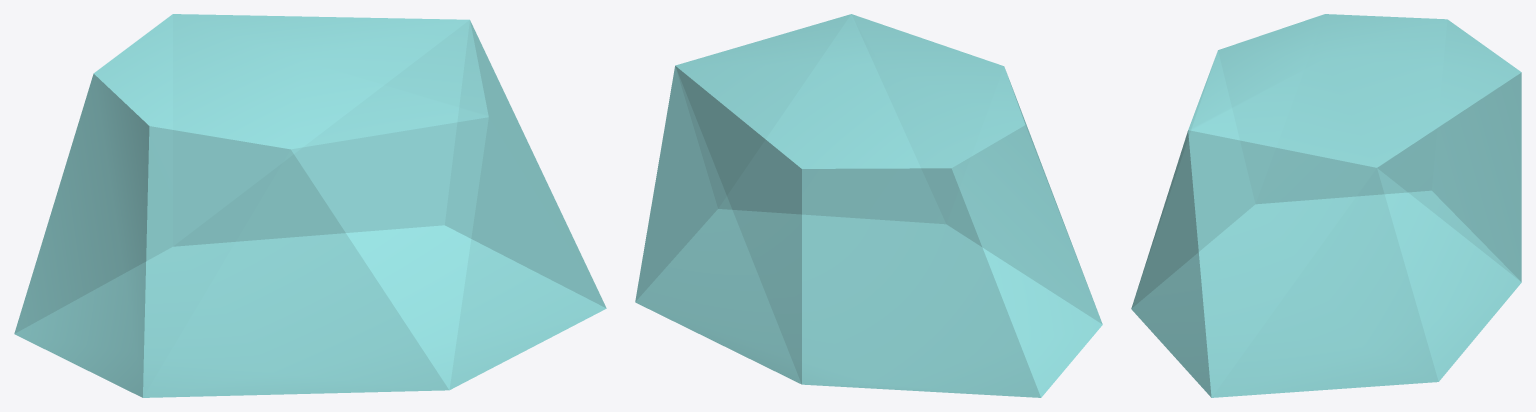
Rendered from Rock_Small_Ice_02.fbx.
3 renders of one model, left to right at view 1: azimuth 30°, elevation 25°; view 2: azimuth 150°, elevation 25°; view 3: azimuth 270°, elevation 25°, orthographic. The views are drawn at different scales.
Visible parts, largest first — view 1: Rock_Small_Ice_02; view 2: Rock_Small_Ice_02; view 3: Rock_Small_Ice_02.
Part boxes in pixels (box(x1,y1,x2,y2)): Rock_Small_Ice_02: box(14, 14, 606, 397); Rock_Small_Ice_02: box(635, 14, 1102, 397); Rock_Small_Ice_02: box(1131, 14, 1521, 397).
Size of the model in its own units: 21.39 by 14.12 by 17.03.
